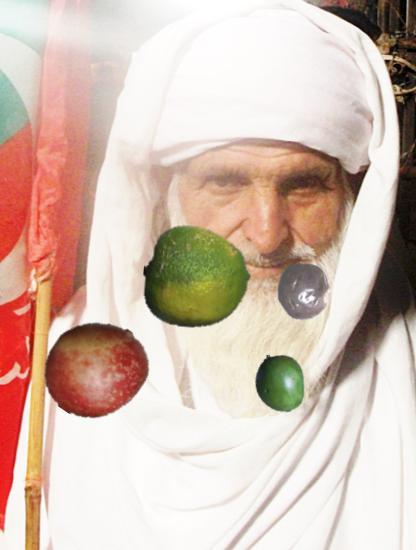Limes: (143, 224, 251, 332)
Mango: (250, 353, 311, 414)
Nectarine: (44, 318, 147, 421)
Passion: (274, 262, 334, 322)
